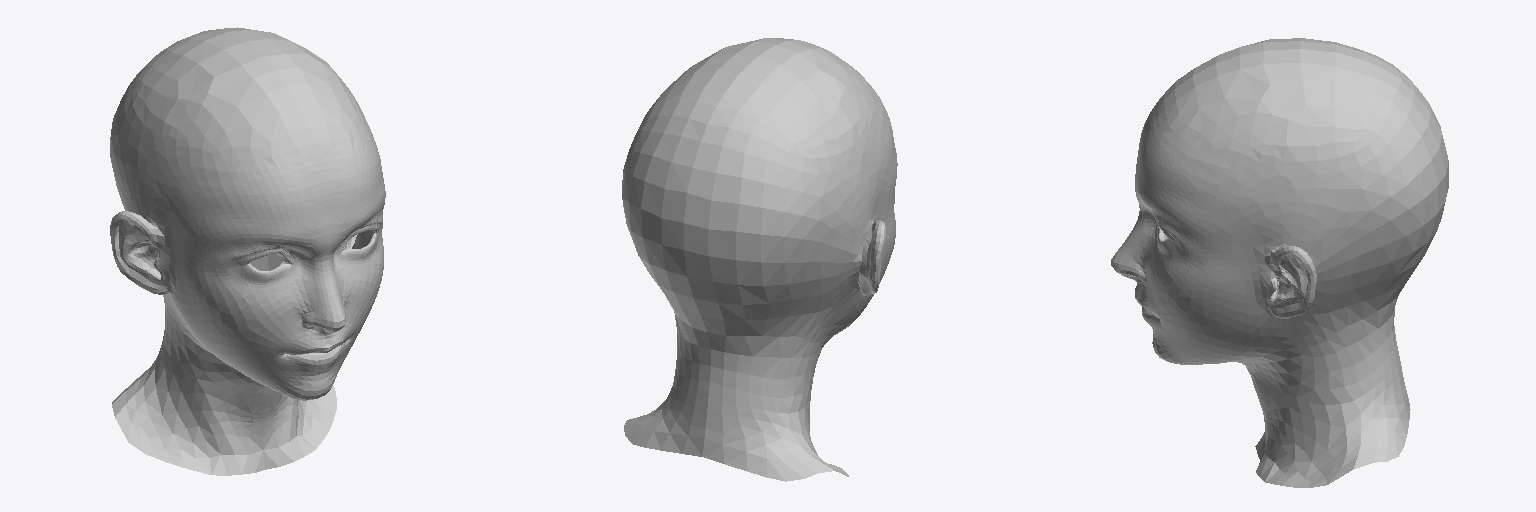
Rendered from tifa_head.obj.
3 views of the same model, side by side, from view 1: azimuth 30°, elevation 25°; view 2: azimuth 150°, elevation 25°; view 3: azimuth 270°, elevation 25° (orthographic).
Parts seen in each view (by area): view 1: PC0002_01_Head; view 2: PC0002_01_Head; view 3: PC0002_01_Head.
Boxes of the visible parts, x1,y1,x2,y2 form: PC0002_01_Head: [110, 27, 385, 475]; PC0002_01_Head: [622, 38, 897, 481]; PC0002_01_Head: [1111, 38, 1448, 487].
Bounding box in the file's own units: 0.1725 × 0.2635 × 0.1948.